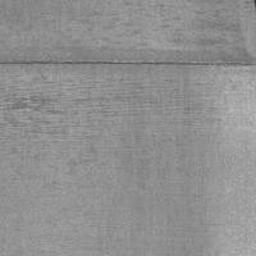Welding line: (0, 59, 256, 67)
